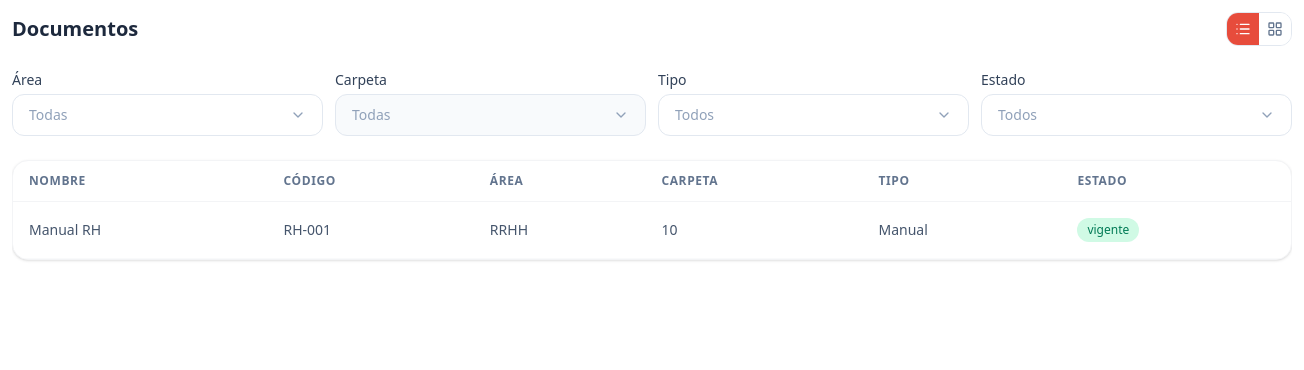
Test case: DocumentosListado › shows the human-readable label for a multi-word estado
Expected: the text "Manual RH" is shown, top-left (29, 220), bottom-right (101, 239)
Click the button named "Estado". click: [1018, 114]
box: top-left (981, 94), bottom-right (1292, 136)
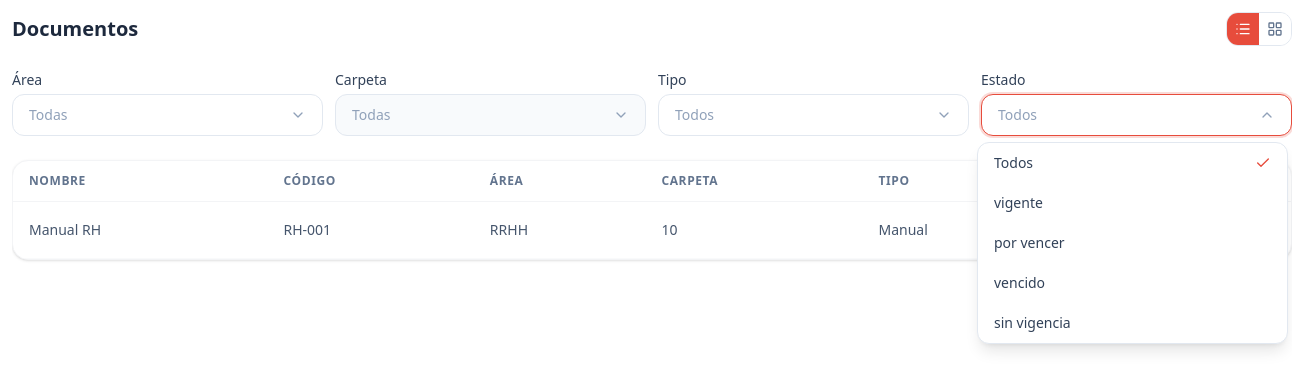
Expected: the text "por vencer" is shown, top-left (994, 233), bottom-right (1065, 253)
Expected: the text "sin vigencia" is shown, top-left (994, 313), bottom-right (1071, 333)
